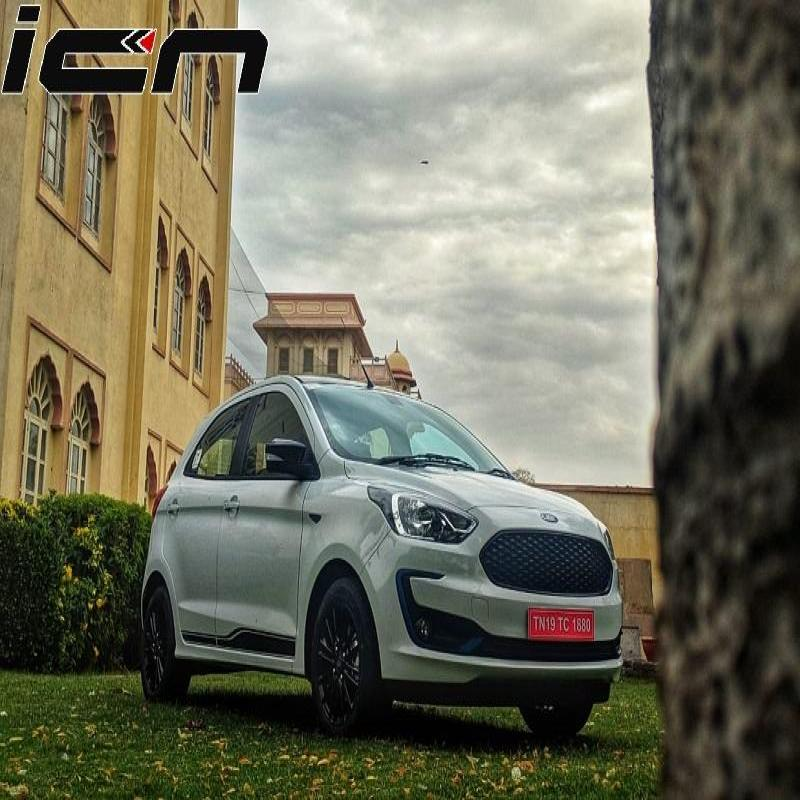car: (104, 371, 649, 717)
